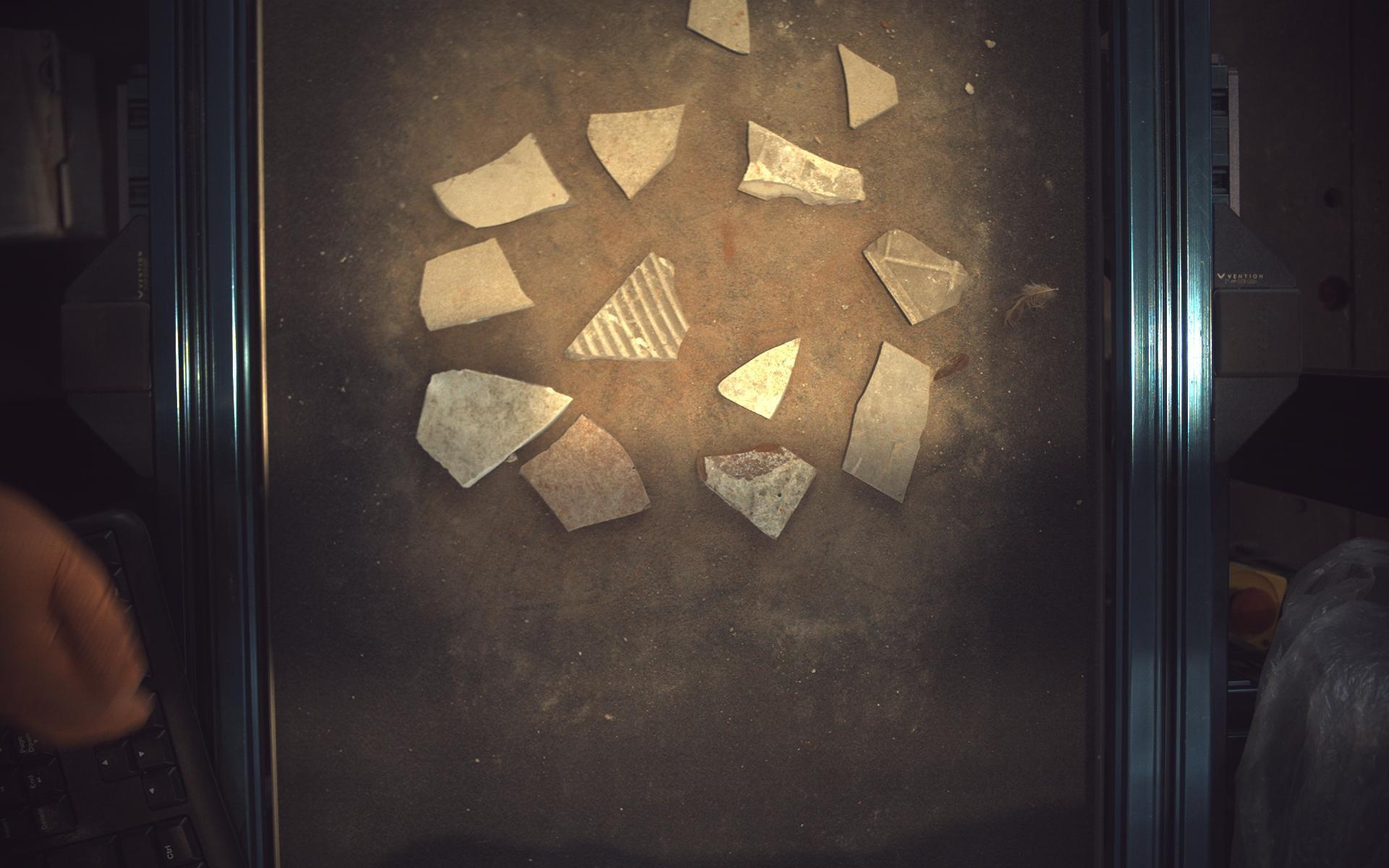tile: (416, 370, 573, 488), (521, 415, 650, 531), (844, 341, 935, 502), (566, 252, 689, 361), (433, 133, 570, 227), (698, 445, 817, 540), (739, 120, 867, 204), (419, 238, 533, 331), (865, 229, 973, 325), (587, 103, 685, 197), (719, 339, 802, 419), (841, 43, 900, 127), (688, 1, 752, 53)
